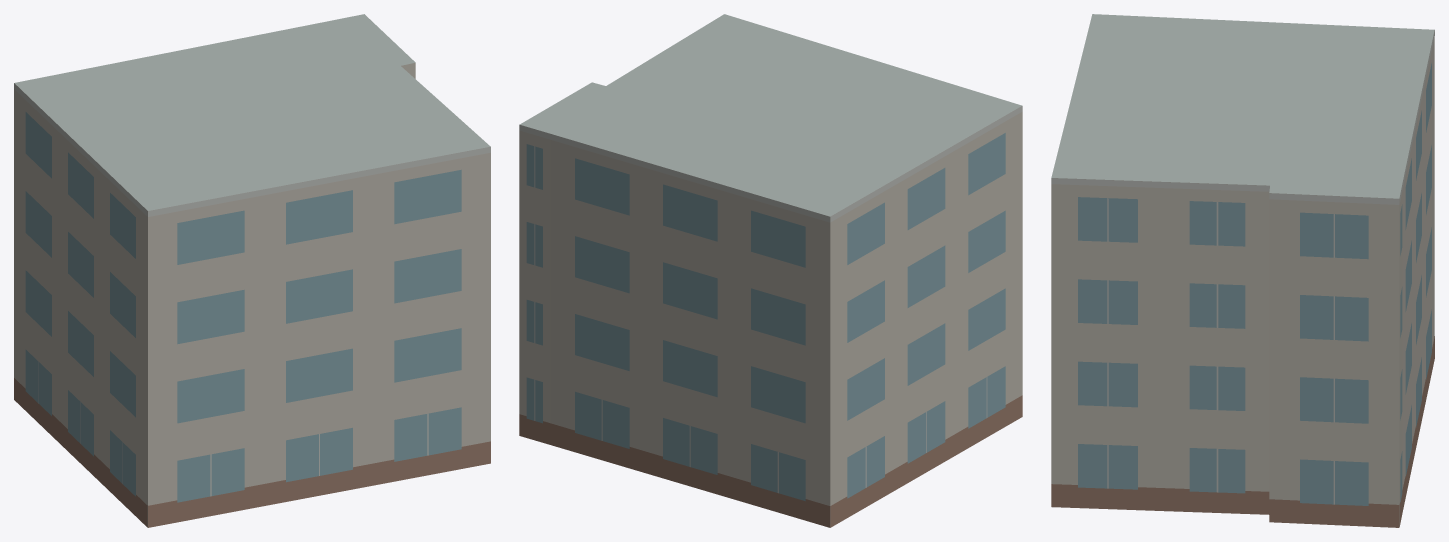
Rendered from survey-upis-32671738.glb.
3 views of the same model, side by side, from view 1: azimuth 30°, elevation 25°; view 2: azimuth 150°, elevation 25°; view 3: azimuth 270°, elevation 25° (orthographic). The views are drawn at different scales.
Parts seen in each view (by area): view 1: survey-upis-32671738.tmp; view 2: survey-upis-32671738.tmp; view 3: survey-upis-32671738.tmp.
Part boxes in pixels (x1=…): survey-upis-32671738.tmp: x1=14, y1=14, x2=490, y2=527; survey-upis-32671738.tmp: x1=519, y1=14, x2=1022, y2=527; survey-upis-32671738.tmp: x1=1051, y1=14, x2=1434, y2=527.
Size of the model in its own units: 15.41 by 12.8 by 13.52.
